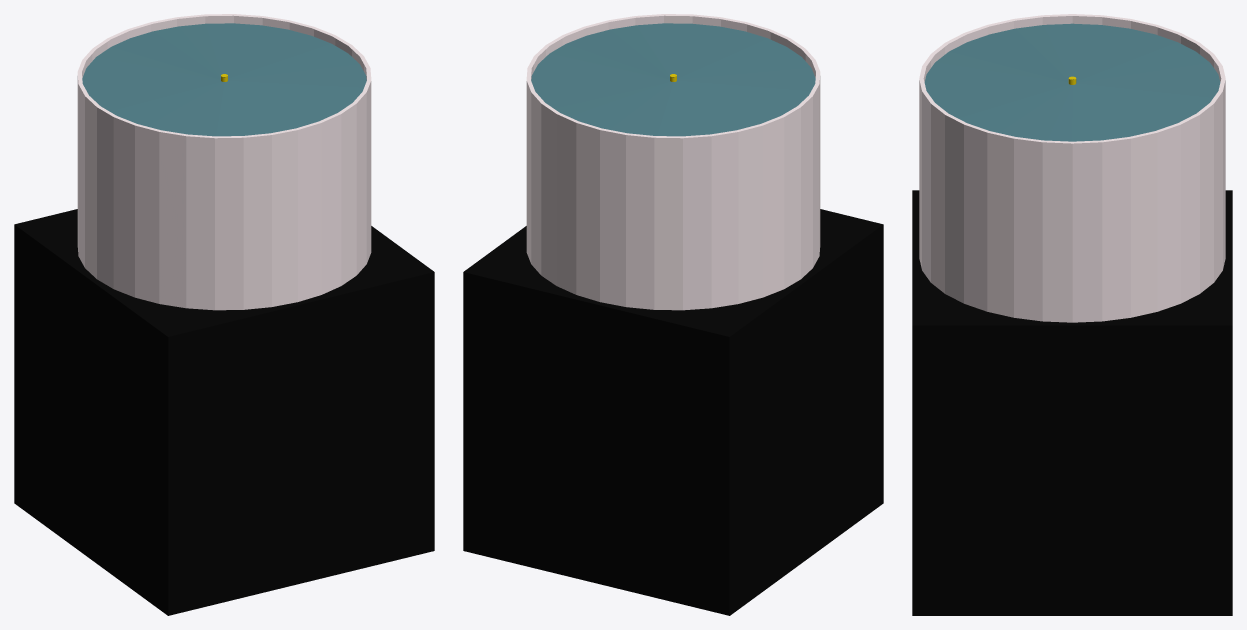
Rendered from Holy Water.fbx.
3 renders of one model, left to right at view 1: azimuth 30°, elevation 25°; view 2: azimuth 150°, elevation 25°; view 3: azimuth 270°, elevation 25°, orthographic. The views are drawn at different scales.
Visible parts, largest first — view 1: Cube, Cylinder, Cylinder.002; view 2: Cube, Cylinder, Cylinder.002; view 3: Cube, Cylinder, Cylinder.002.
Part boxes in pixels (x1,y1,x2,y2): Cube: (14,209,434,615); Cylinder: (77,14,371,310); Cylinder.002: (82,23,366,136); Cube: (463,209,883,615); Cylinder: (526,14,820,310); Cylinder.002: (531,23,815,136); Cube: (912,190,1232,615); Cylinder: (919,14,1225,322); Cylinder.002: (924,23,1220,141).
Size of the model in its own units: 344 by 557 by 344.
